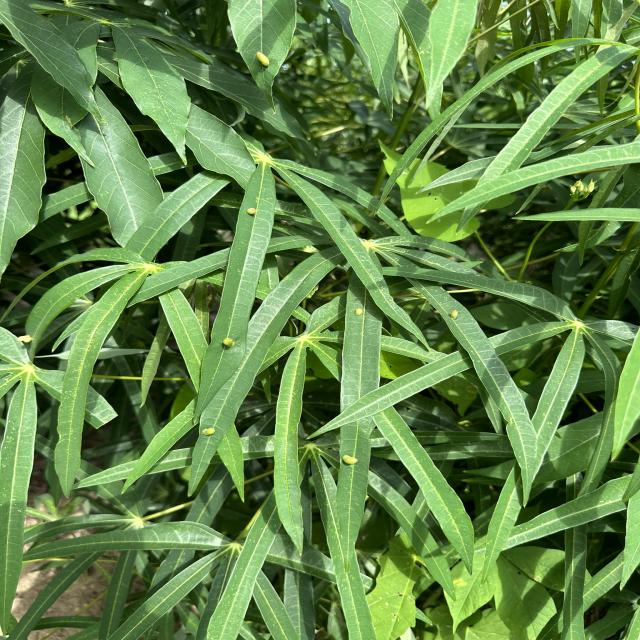Maleza: (367, 537, 574, 640)
Mosca: (250, 37, 279, 78), (216, 329, 243, 357), (236, 195, 262, 224), (336, 444, 361, 472), (196, 418, 221, 443), (443, 303, 468, 328), (351, 297, 368, 325)
